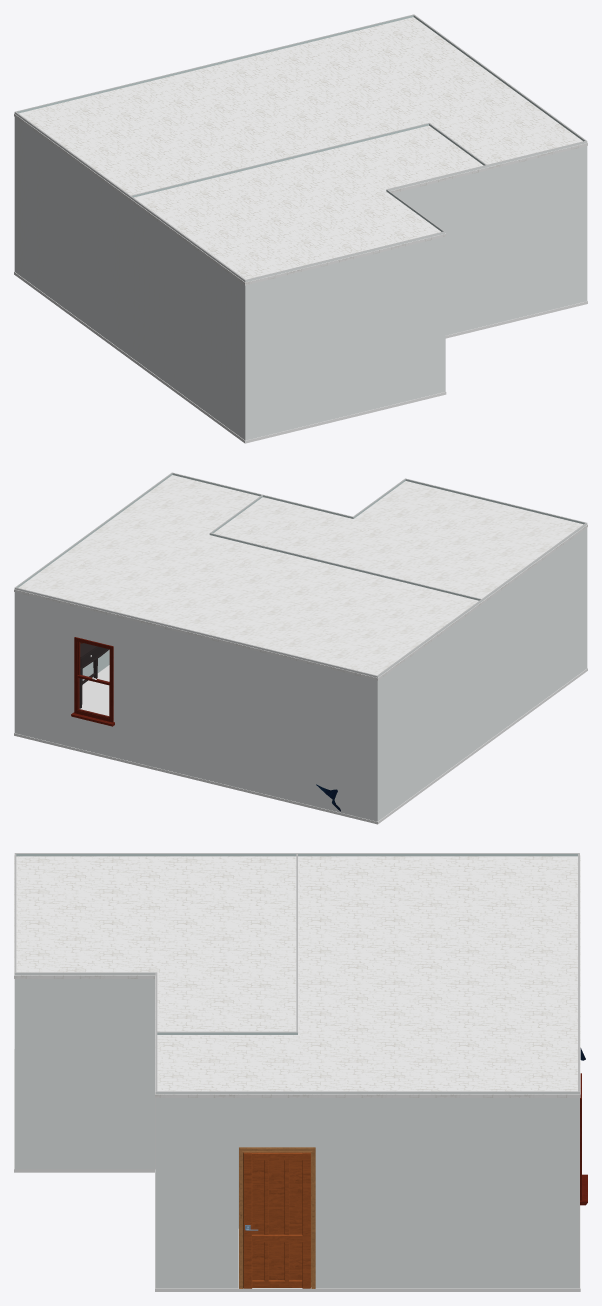
Rendered from ProcTHOR-Train-126.glb.
3 renders of one model, top to bottom at view 1: azimuth 30°, elevation 25°; view 2: azimuth 150°, elevation 25°; view 3: azimuth 270°, elevation 25°, orthographic. The views are drawn at different scales.
Visible parts, largest first — view 1: Ceiling#room|2|c, WallInside#wall|exterior|3.81|7.63|7.63|7.63, Ceiling#room|3|c, WallInside#wall|exterior|7.63|0.00|7.63|3.81, WallInside#wall|exterior|7.63|3.81|7.63|7.63, WallInside#wall|exterior|0.00|5.72|1.91|5.72, WallInside#wall|exterior|1.91|5.72|3.81|5.72, Floor#room|3|f, WallInside#wall|2|0.00|0.00|7.63|0.00, WallInside#wall|3|1.91|3.81|7.63|3.81, Floor#room|2|f, WallInside#wall|2|0.00|0.00|0.00|5.72; view 2: WallInside#wall|exterior|0.00|0.00|7.63|0.00, Ceiling#room|2|c, Ceiling#room|3|c, WallInside#wall|exterior|7.63|3.81|7.63|7.63, WallInside#wall|exterior|7.63|0.00|7.63|3.81, Floor#room|2|f, Window_Hung_32x60, WallInside#wall|2|0.00|0.00|0.00|5.72, WallInside#wall|2|1.91|3.81|7.63|3.81, Side_Table_219_1, WallInside#wall|3|3.81|7.63|7.63|7.63; view 3: Ceiling#room|2|c, WallInside#wall|exterior|0.00|0.00|0.00|5.72, Ceiling#room|3|c, WallInside#wall|exterior|3.81|5.72|3.81|7.63, Doorway_10, Floor#room|2|f, WallInside#wall|3|7.63|3.81|7.63|7.63, WallInside#wall|2|7.63|0.00|7.63|3.81, Floor#room|3|f.
Boxes of the visible parts, left/top/right/bottom form: Ceiling#room|2|c: left=14, top=17, right=587, bottom=200; WallInside#wall|exterior|3.81|7.63|7.63|7.63: left=245, top=231, right=445, bottom=440; Ceiling#room|3|c: left=129, top=126, right=488, bottom=285; WallInside#wall|exterior|7.63|0.00|7.63|3.81: left=14, top=111, right=130, bottom=355; WallInside#wall|exterior|7.63|3.81|7.63|7.63: left=129, top=196, right=245, bottom=440; WallInside#wall|exterior|0.00|5.72|1.91|5.72: left=486, top=141, right=587, bottom=325; WallInside#wall|exterior|1.91|5.72|3.81|5.72: left=387, top=165, right=486, bottom=335; Floor#room|3|f: left=129, top=325, right=488, bottom=443; WallInside#wall|2|0.00|0.00|7.63|0.00: left=16, top=14, right=414, bottom=113; WallInside#wall|3|1.91|3.81|7.63|3.81: left=132, top=123, right=428, bottom=197; Floor#room|2|f: left=14, top=271, right=587, bottom=358; WallInside#wall|2|0.00|0.00|0.00|5.72: left=413, top=15, right=586, bottom=141; WallInside#wall|exterior|0.00|0.00|7.63|0.00: left=14, top=588, right=377, bottom=821; Ceiling#room|2|c: left=14, top=475, right=483, bottom=680; Ceiling#room|3|c: left=213, top=481, right=587, bottom=603; WallInside#wall|exterior|7.63|3.81|7.63|7.63: left=482, top=523, right=587, bottom=744; WallInside#wall|exterior|7.63|0.00|7.63|3.81: left=377, top=599, right=482, bottom=821; Floor#room|2|f: left=14, top=665, right=482, bottom=824; Window_Hung_32x60: left=71, top=637, right=114, bottom=726; WallInside#wall|2|0.00|0.00|0.00|5.72: left=15, top=473, right=172, bottom=680; WallInside#wall|2|1.91|3.81|7.63|3.81: left=209, top=533, right=480, bottom=600; Side_Table_219_1: left=79, top=643, right=109, bottom=708; WallInside#wall|3|3.81|7.63|7.63|7.63: left=405, top=479, right=585, bottom=524; Ceiling#room|2|c: left=155, top=855, right=580, bottom=1097; WallInside#wall|exterior|0.00|0.00|0.00|5.72: left=155, top=1091, right=579, bottom=1288; Ceiling#room|3|c: left=14, top=855, right=298, bottom=1033; WallInside#wall|exterior|3.81|5.72|3.81|7.63: left=14, top=972, right=155, bottom=1169; Doorway_10: left=239, top=1147, right=315, bottom=1288; Floor#room|2|f: left=155, top=1205, right=580, bottom=1291; WallInside#wall|3|7.63|3.81|7.63|7.63: left=15, top=853, right=296, bottom=856; WallInside#wall|2|7.63|0.00|7.63|3.81: left=298, top=853, right=579, bottom=856; Floor#room|3|f: left=14, top=1049, right=155, bottom=1227.
Size of the model in its own units: 7.77 by 2.99 by 7.77.
134 materials, 41 textured.
